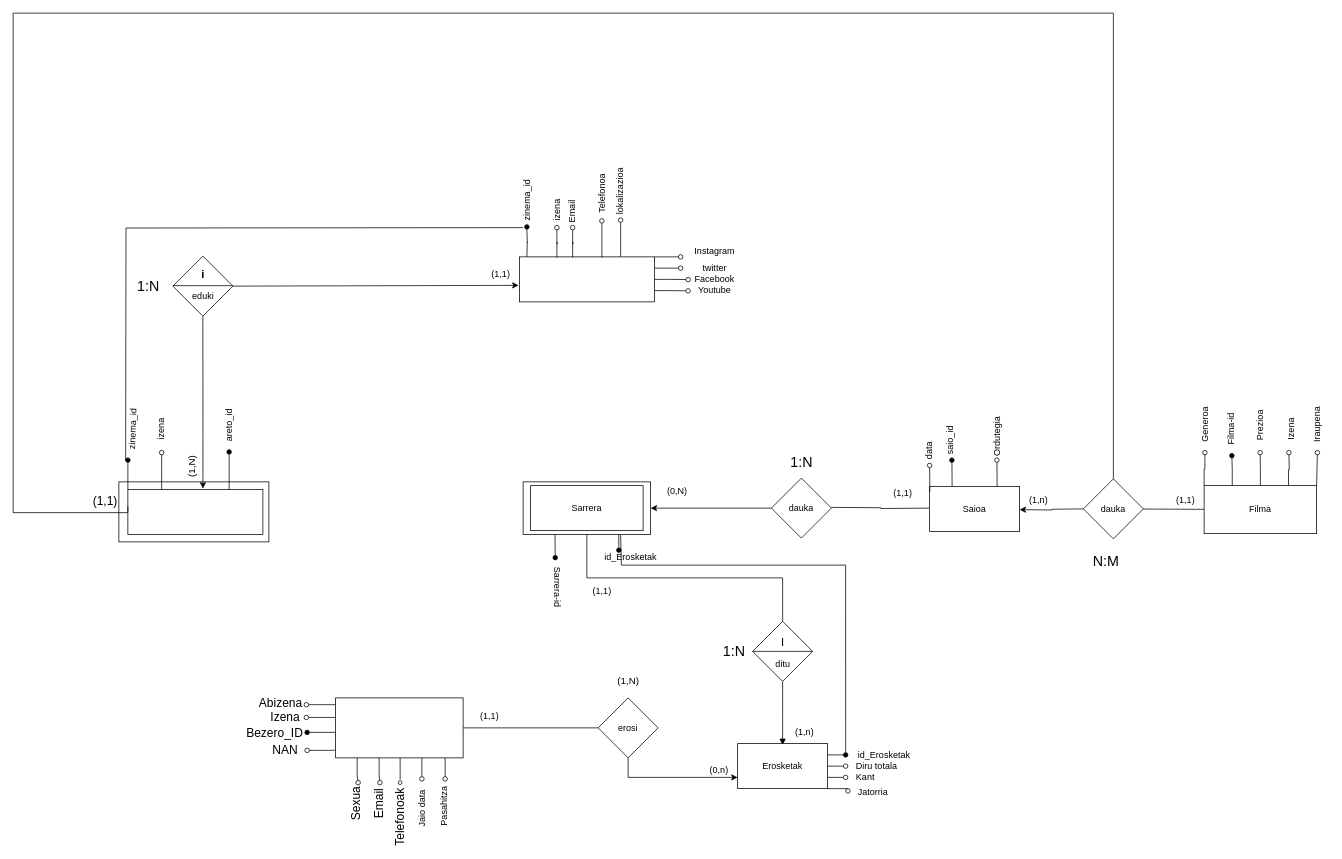
Image size: 1342x859. Some labels were removed from this diagram. Each missing label, with the centre of its shape:
"Aretoa" goes at pixel 195 511.
"Bezeroa" goes at pixel 399 727.
"Zinema" goes at pixel 586 279.
